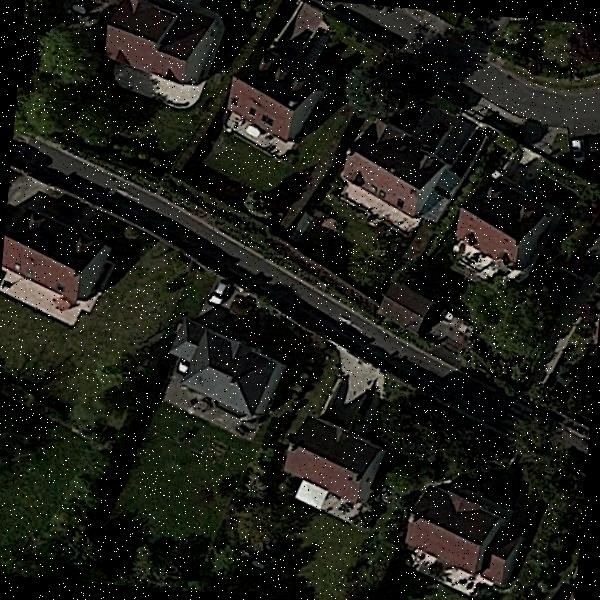Buildings: (218, 42, 327, 160), (0, 206, 109, 314), (337, 117, 456, 213), (95, 0, 218, 91), (408, 495, 523, 584), (171, 316, 274, 414), (460, 180, 546, 266), (284, 424, 379, 496), (375, 286, 434, 326)
